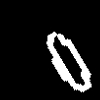chain: (47, 32, 90, 91)
